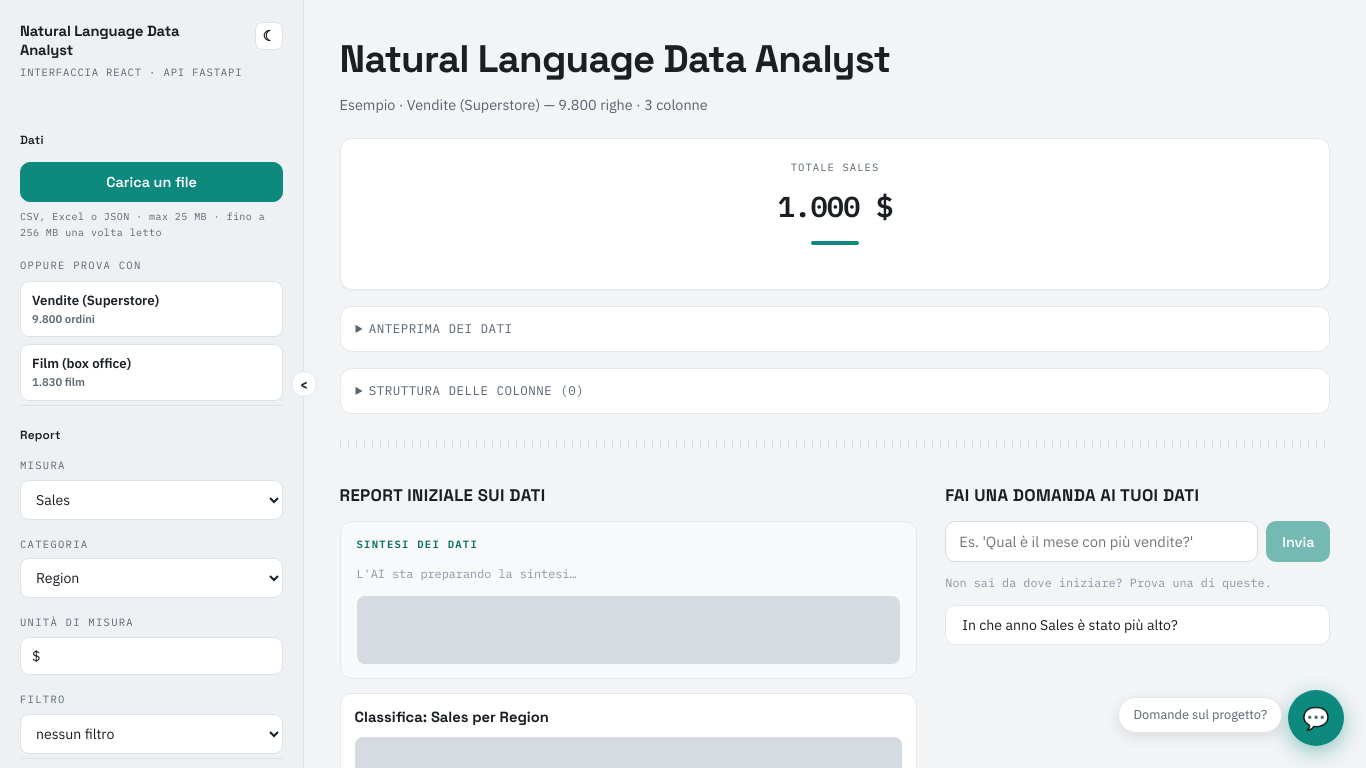
Scenario: cambio di dataset › azzera le scelte sulle colonne del nuovo file
Expected: the text "Totale Sales" is shown, [791, 160, 879, 174]
Expected: the 1st dropdown showing "Sales" is shown, [20, 480, 283, 520]
What coordinates should you click on to do the following:
click the button "Film (box office) 1.830 film"
I would click on:
 (82, 363)
Its box is [20, 344, 283, 401].
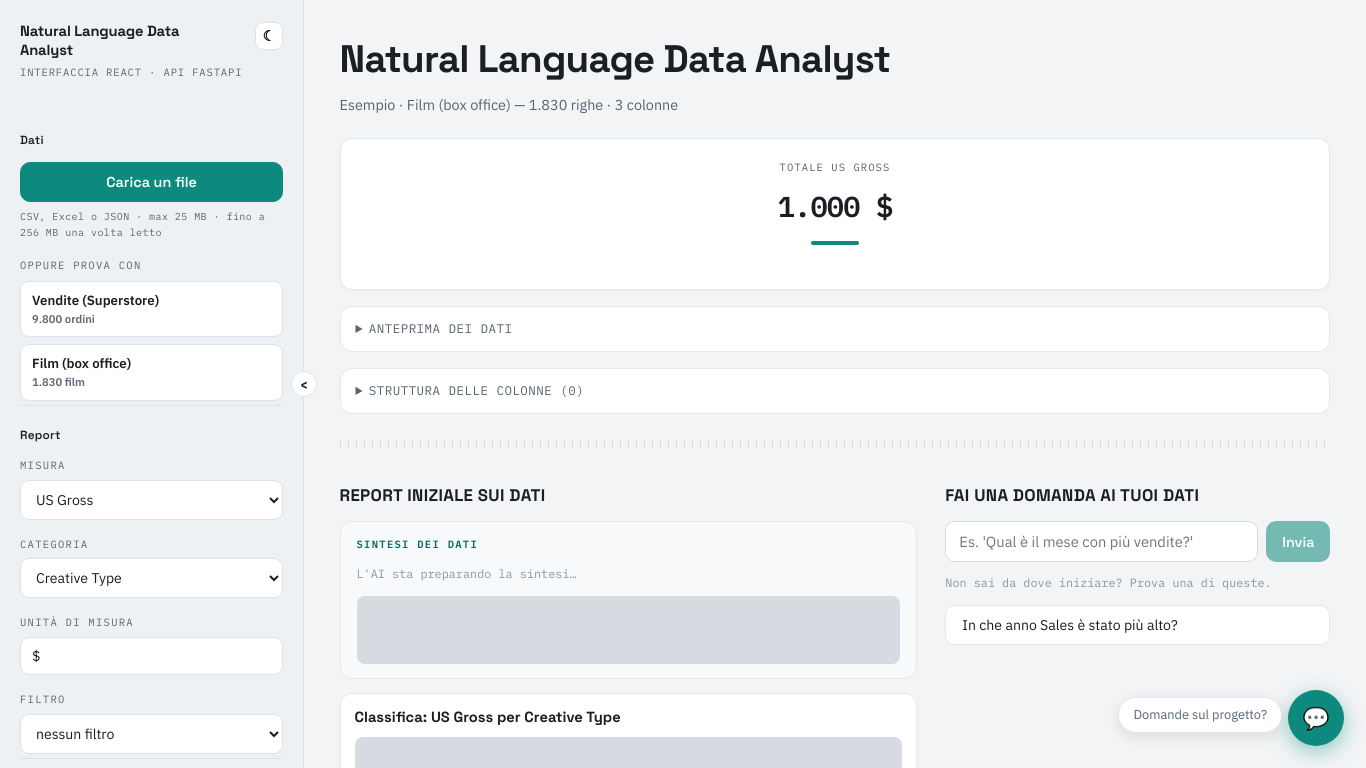
Result: the text "Totale US Gross" is shown at [780, 160, 890, 174]
Result: the 1st dropdown showing "US Gross" is shown at [20, 480, 283, 520]
